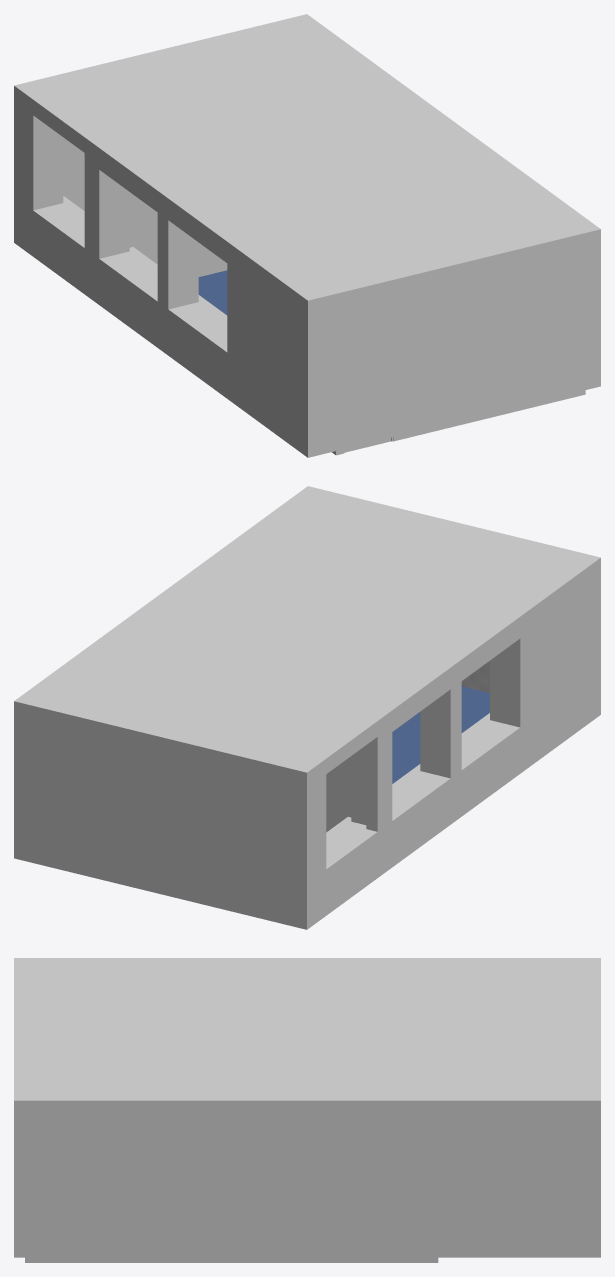
File: labmodell.fbx
The picture shows the model from 3 angles, top to bottom: view 1: azimuth 30°, elevation 25°; view 2: azimuth 150°, elevation 25°; view 3: azimuth 270°, elevation 25°; orthographic projection.
Parts seen in each view (by area): view 1: Group1; view 2: Group1; view 3: Group1.
Part boxes in pixels (box(x1,y1,x2,y2)): Group1: box(14, 14, 600, 457); Group1: box(14, 486, 600, 929); Group1: box(14, 958, 600, 1262).
Size of the model in its own units: 609 by 332 by 1058.
